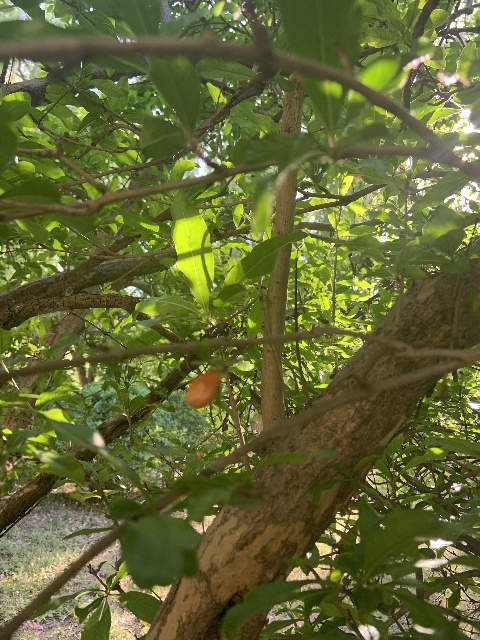bud: (184, 371, 220, 407), (196, 451, 203, 459)
